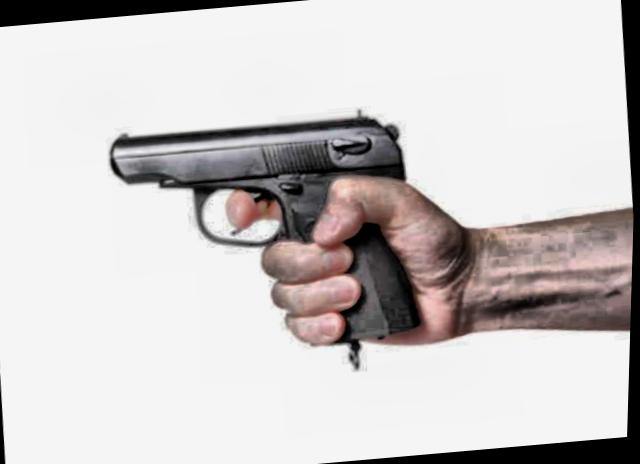pistol: (102, 104, 433, 364)
